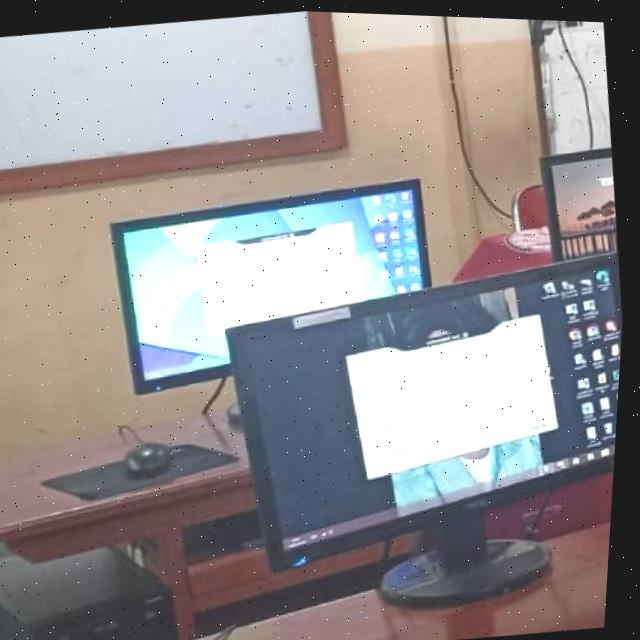onscreen: (235, 253, 626, 565), (115, 176, 433, 391)
